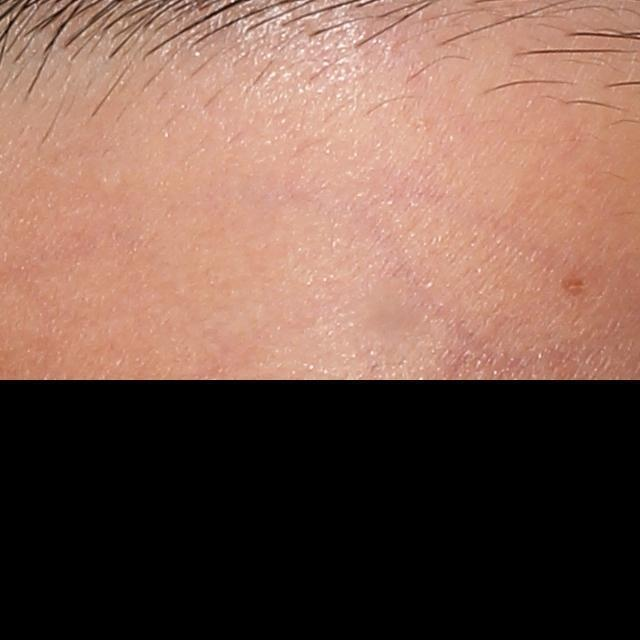nevus: (562, 269, 587, 301)
